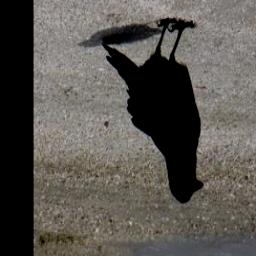Crow: (100, 17, 207, 206)
